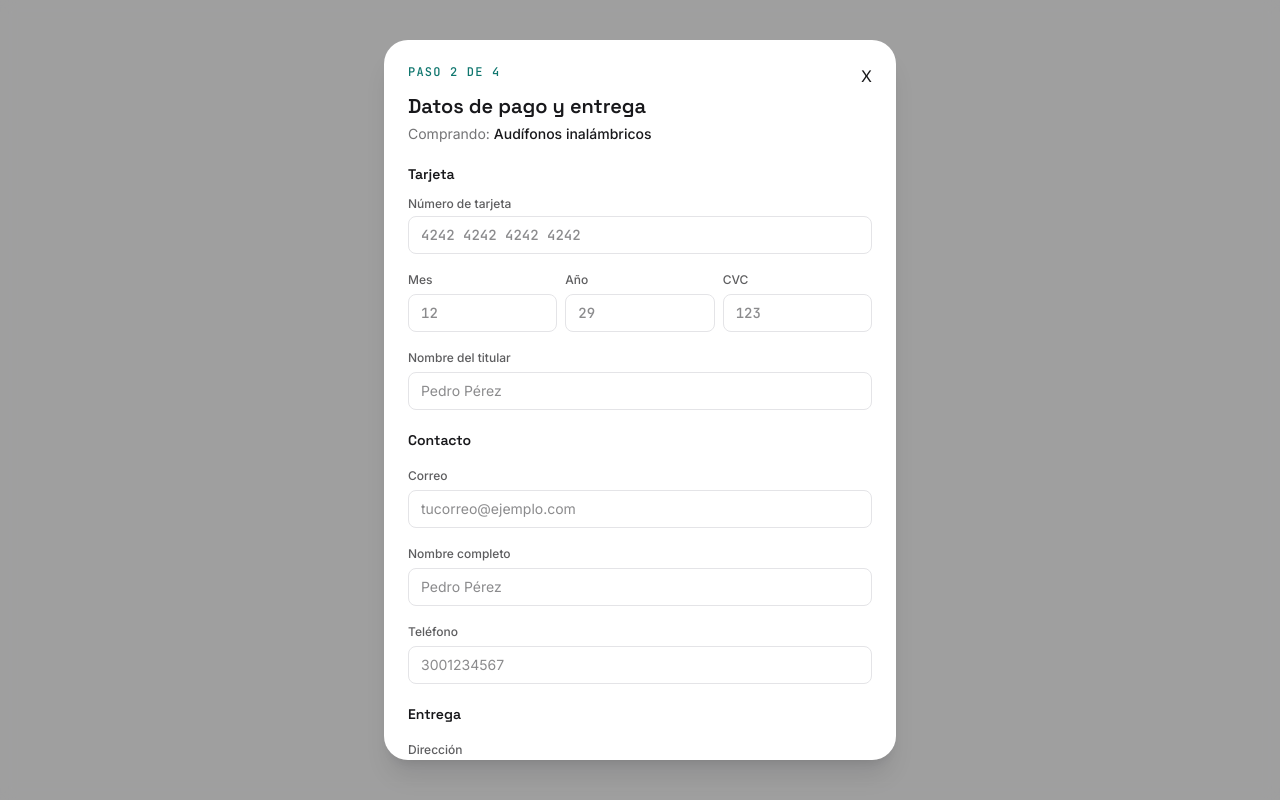
Test: CardModal › detecta y muestra la marca VISA al escribir un número que empieza en 4
Type "4242424242424242" into the field with placeholder "4242 4242 4242 4242" at (640, 235), box [408, 216, 872, 254]
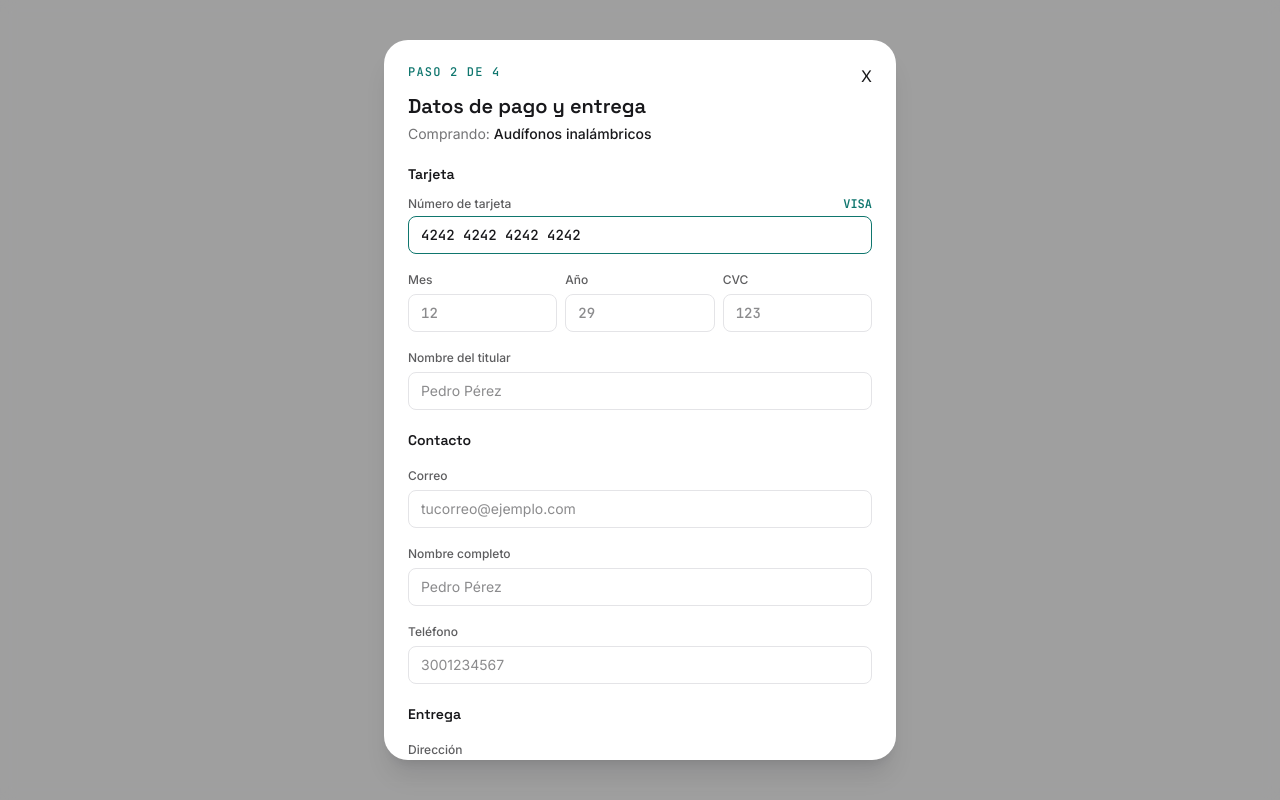
Expected: the text "VISA" is shown, [843, 196, 872, 212]
